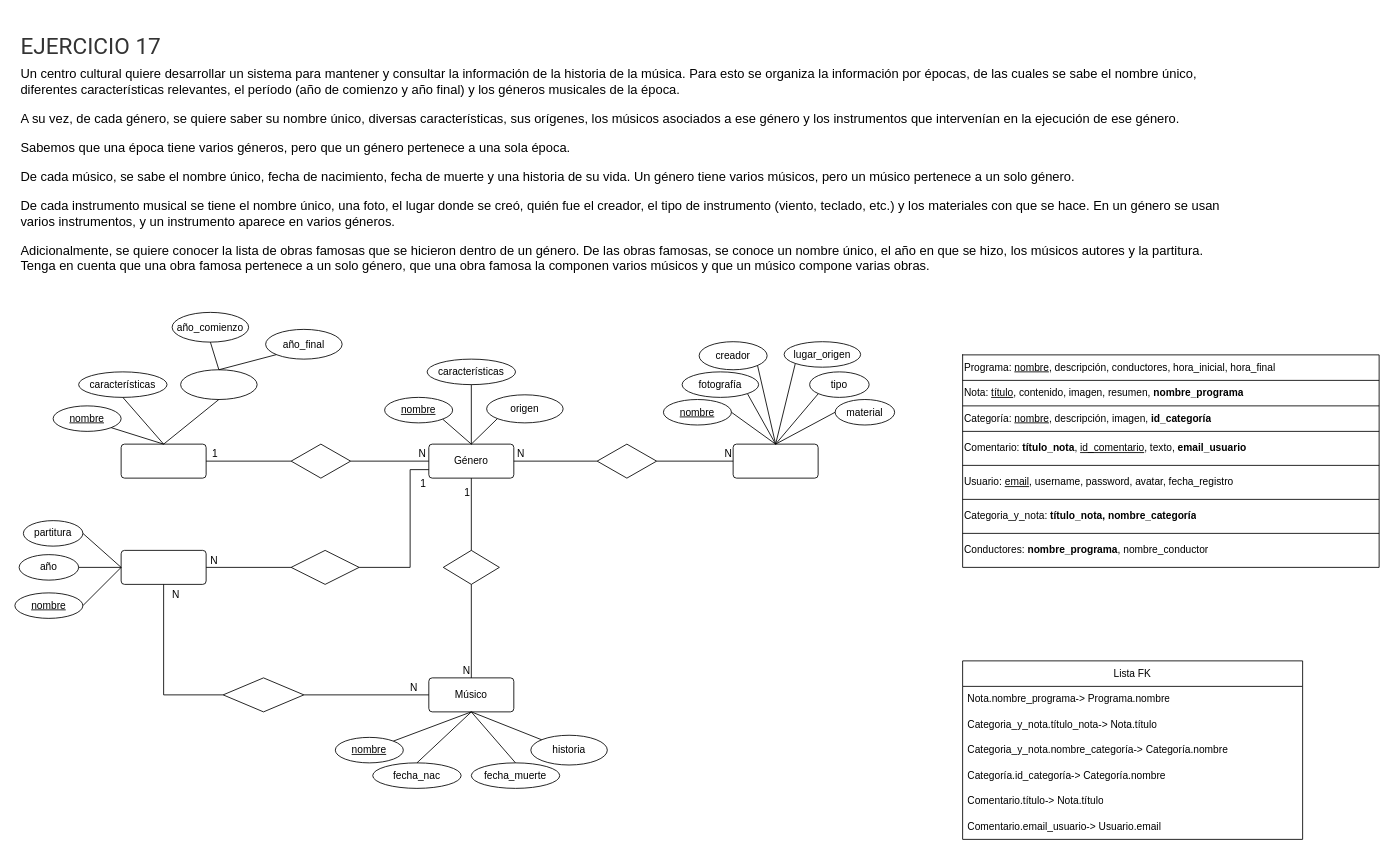
This 1394x854 diagram has some shape labels left out. The shapes that lost their labels are listed below. From the top down, each one's centre as x and y in pixels, then its label:
At point 218,384: "período".
At point 163,460: "Época".
At point 320,460: "tiene".
At point 626,460: "se usan".
At point 775,460: "Instrumento".
At point 163,567: "Obra Famosa".
At point 324,567: "pertenece".
At point 470,567: "posee".
At point 263,694: "compuesto".
